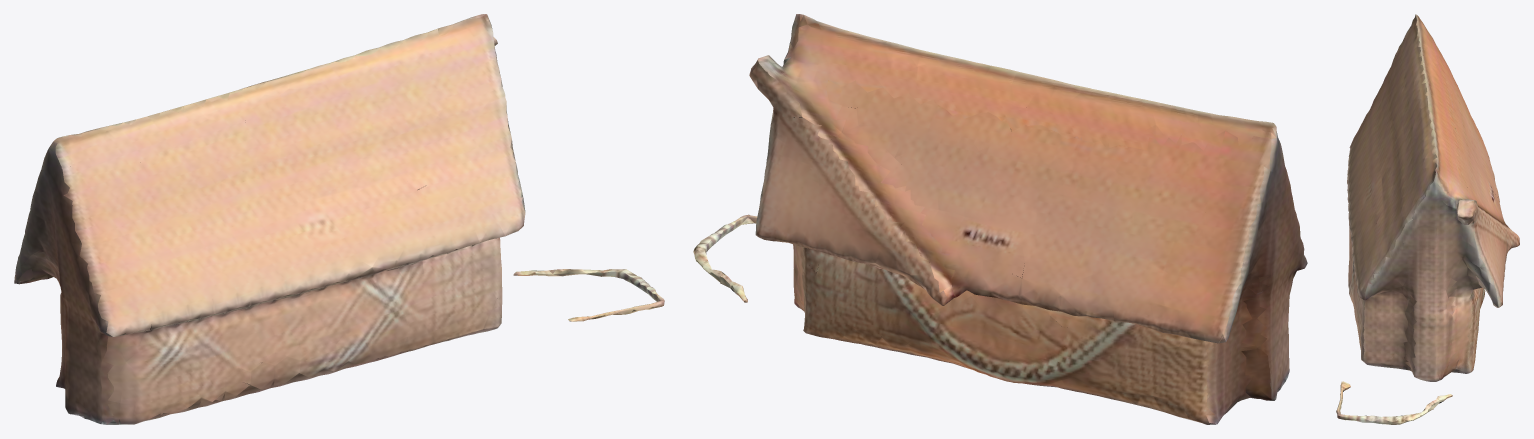
The picture shows the model from 3 angles, left to right: view 1: azimuth 30°, elevation 25°; view 2: azimuth 150°, elevation 25°; view 3: azimuth 270°, elevation 25°; orthographic projection. The views are drawn at different scales.
Parts seen in each view (by area): view 1: world; view 2: world; view 3: world.
Part boxes in pixels (x1,y1,x2,y2): world: (14, 14, 664, 424); world: (693, 14, 1307, 424); world: (1336, 14, 1519, 424).
Size of the model in its own units: 1.01 by 0.4776 by 0.3725.
1 material, 1 textured.
